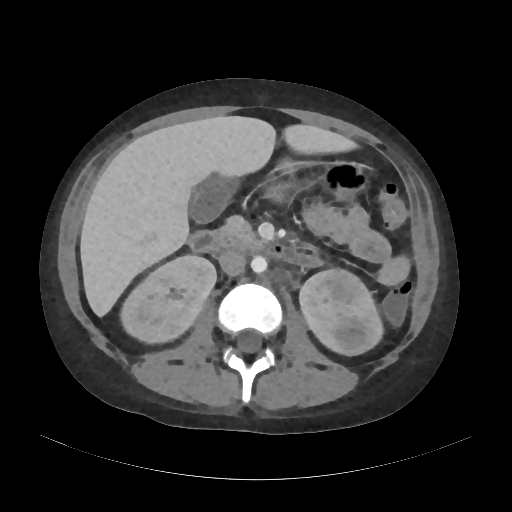Lesion: (328, 316, 370, 355)
